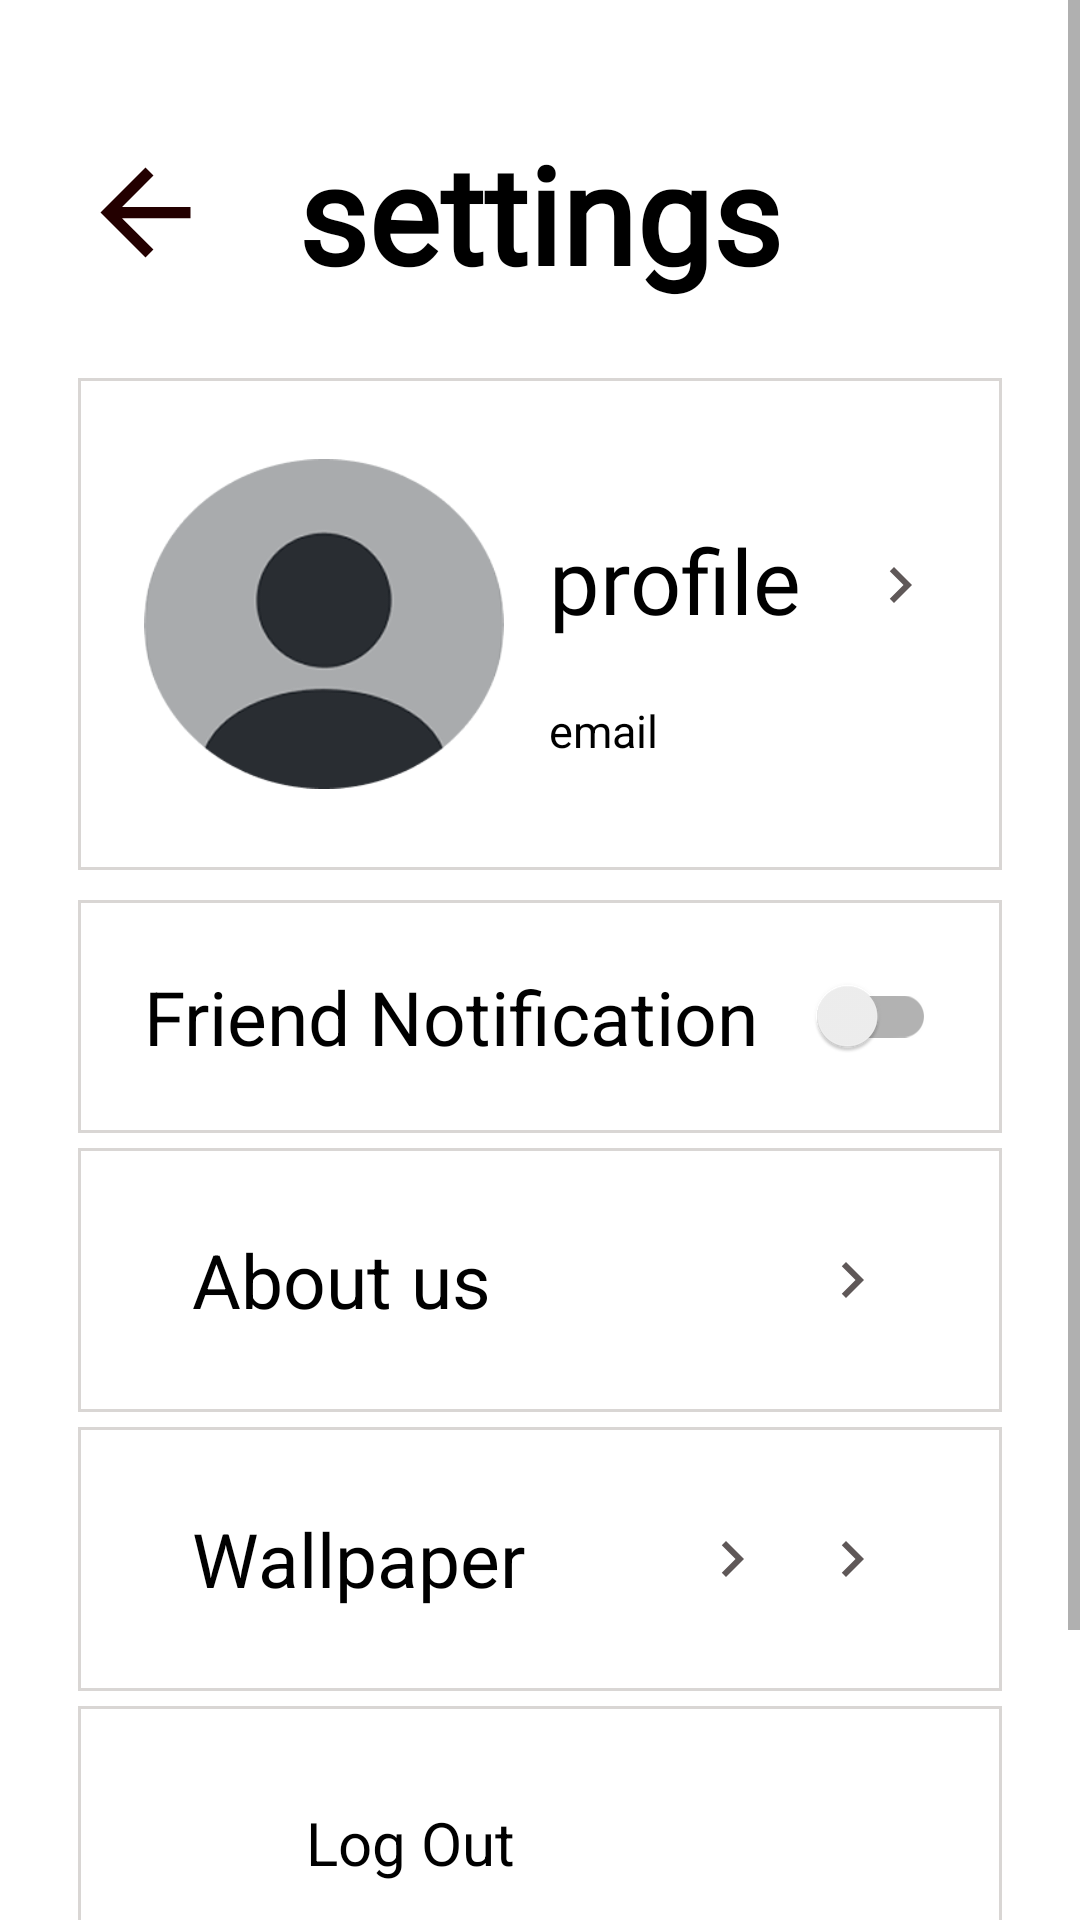

Named icons in this screenshot (1080px x 1920px) and their bounding boxes, BBox(x1, y1, x2, y2):
back: BBox(100, 167, 191, 258)
right: BBox(890, 567, 912, 603), BBox(842, 1262, 864, 1298), BBox(722, 1541, 744, 1577), BBox(842, 1541, 864, 1577)
